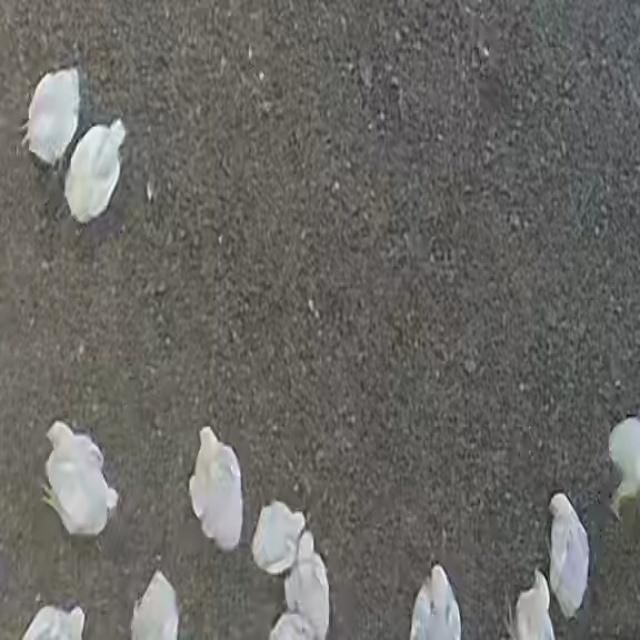chicken: (42, 422, 120, 537), (187, 424, 245, 551), (60, 119, 128, 225), (21, 62, 81, 162), (548, 492, 592, 618), (287, 532, 330, 640), (251, 501, 305, 575), (607, 416, 640, 514)
